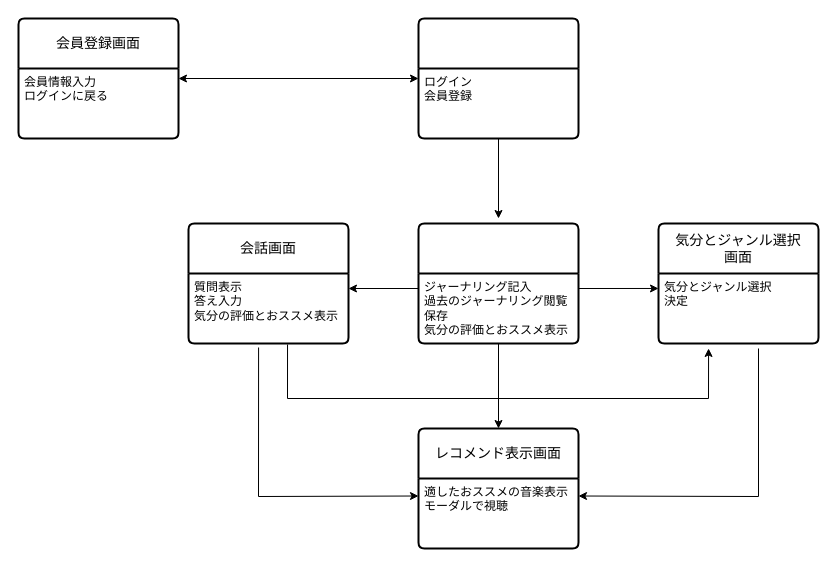
Image size: 836x566. Some labels were removed from this diagram. The box of each missing label's shape, as (x1, y1, x2, y2) in pixels:
ジャーナリング画面: (417, 222, 579, 344)
ログイン画面: (417, 17, 579, 139)
